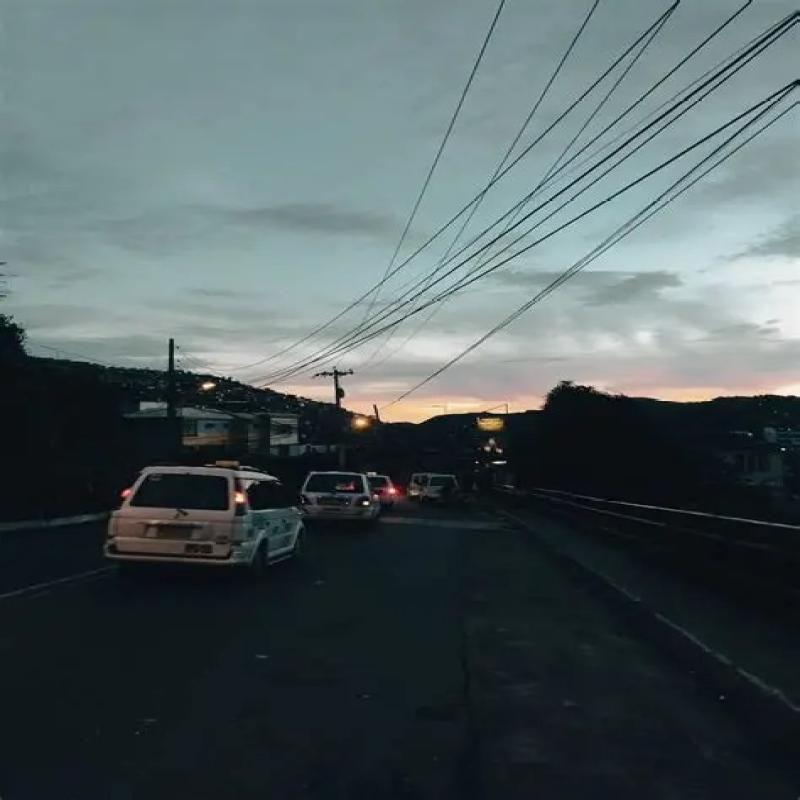license plate on a car: (148, 522, 208, 545), (314, 492, 359, 510)
